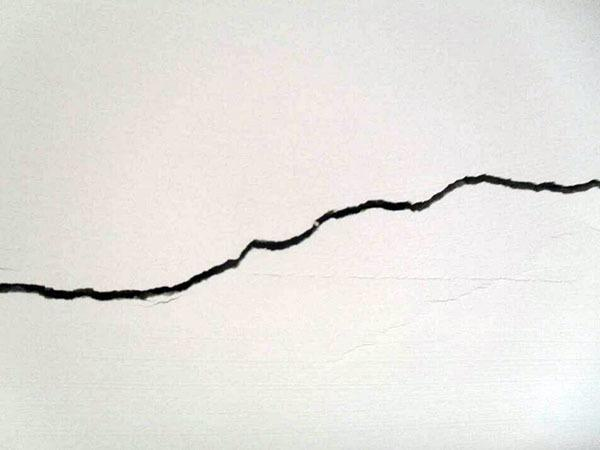Crack: (1, 172, 600, 302)
